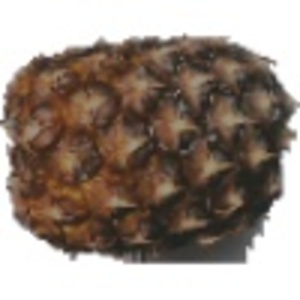abacaxi: (2, 36, 296, 252)
